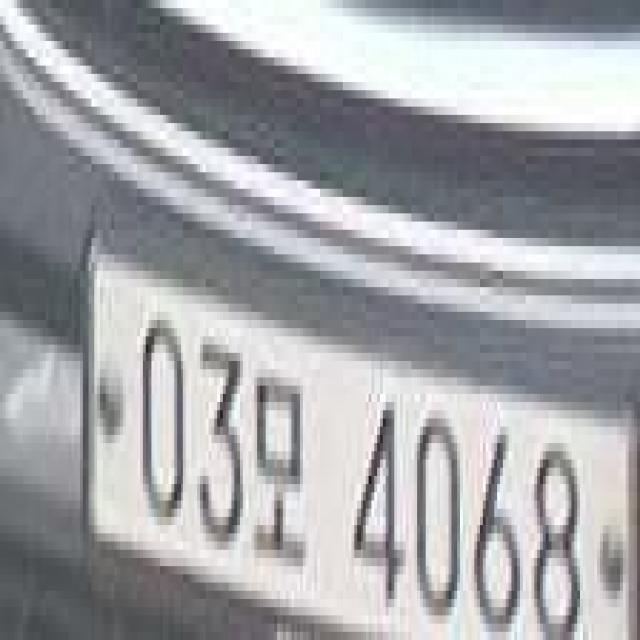illegal_plate: (97, 276, 640, 636)
